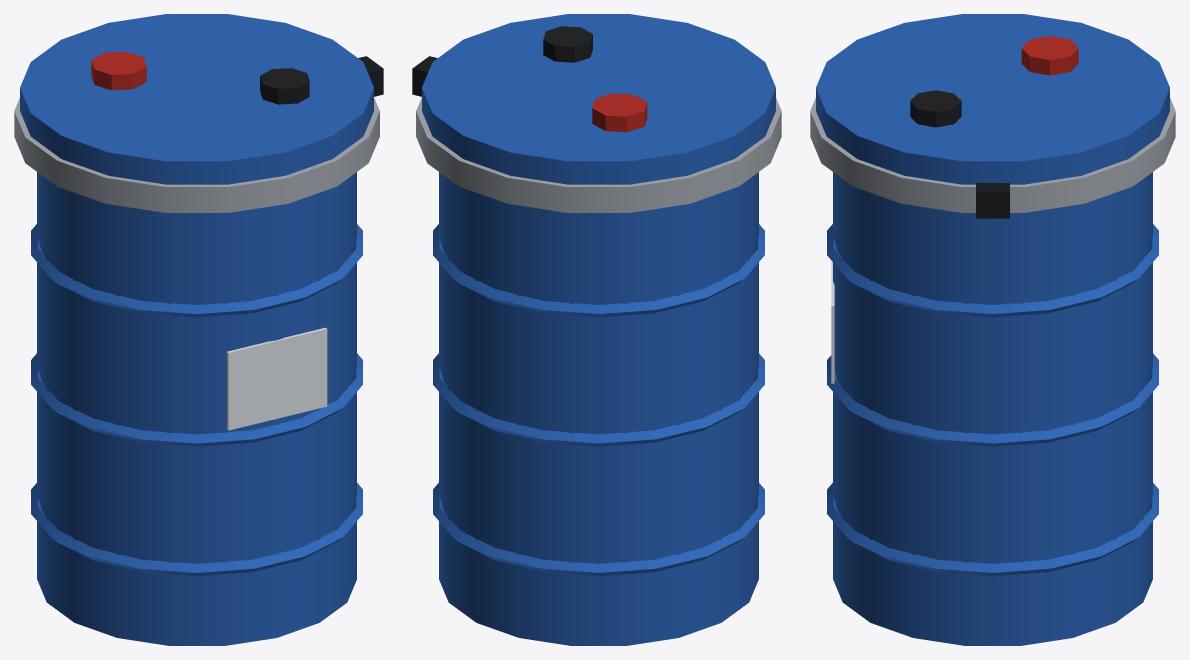
File: barrel_plastic_drum_lidded.glb
3 views of the same model, side by side, from view 1: azimuth 30°, elevation 25°; view 2: azimuth 150°, elevation 25°; view 3: azimuth 270°, elevation 25° (orthographic).
Visible parts, largest first — view 1: barrel_plastic_drum_lidded; view 2: barrel_plastic_drum_lidded; view 3: barrel_plastic_drum_lidded.
Boxes of the visible parts, bbox=[...] form: barrel_plastic_drum_lidded: bbox=[14, 14, 383, 645]; barrel_plastic_drum_lidded: bbox=[412, 14, 781, 645]; barrel_plastic_drum_lidded: bbox=[810, 14, 1175, 645].
Size of the model in its own units: 0.6751 by 0.98 by 0.64.
